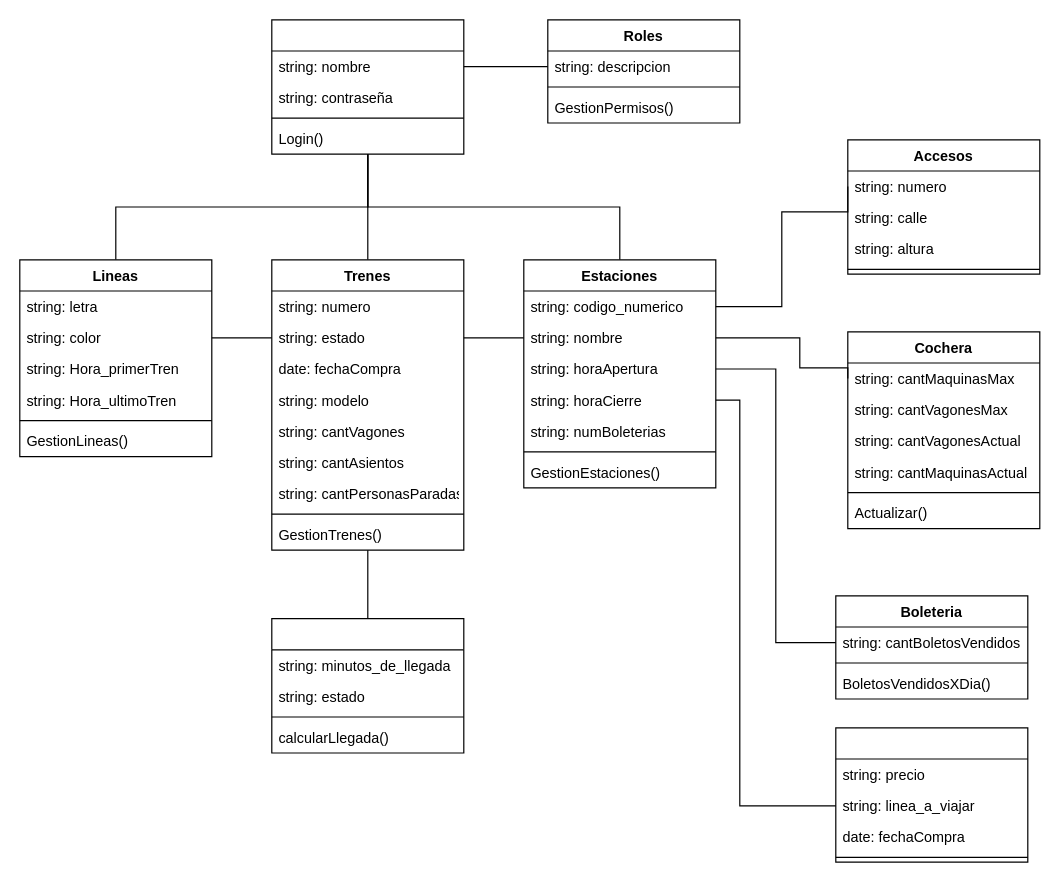
Some shapes in this 1060 by 882 pixel diagram are drawn without their labels. The box of each missing label's shape, as (x1, y1, x2, y2) in pixels:
Boletos: (835, 727, 1028, 862)
GPS: (271, 617, 464, 753)
Usuario: (271, 19, 464, 154)
